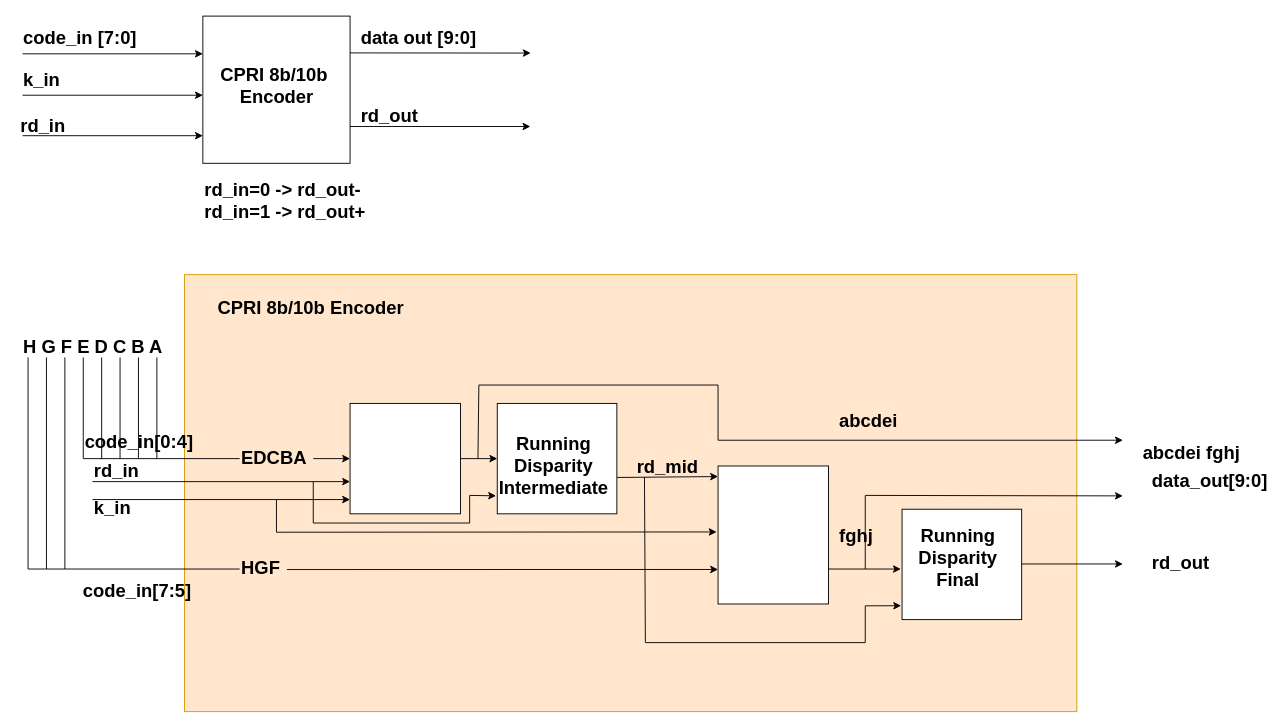
Some shapes in this 1284 by 728 pixel diagram are drawn without their labels. Each missing label, with the centre of its shape:
3B/4B Encoder: point 772,534
5B/6B Encoder: point 404,458
